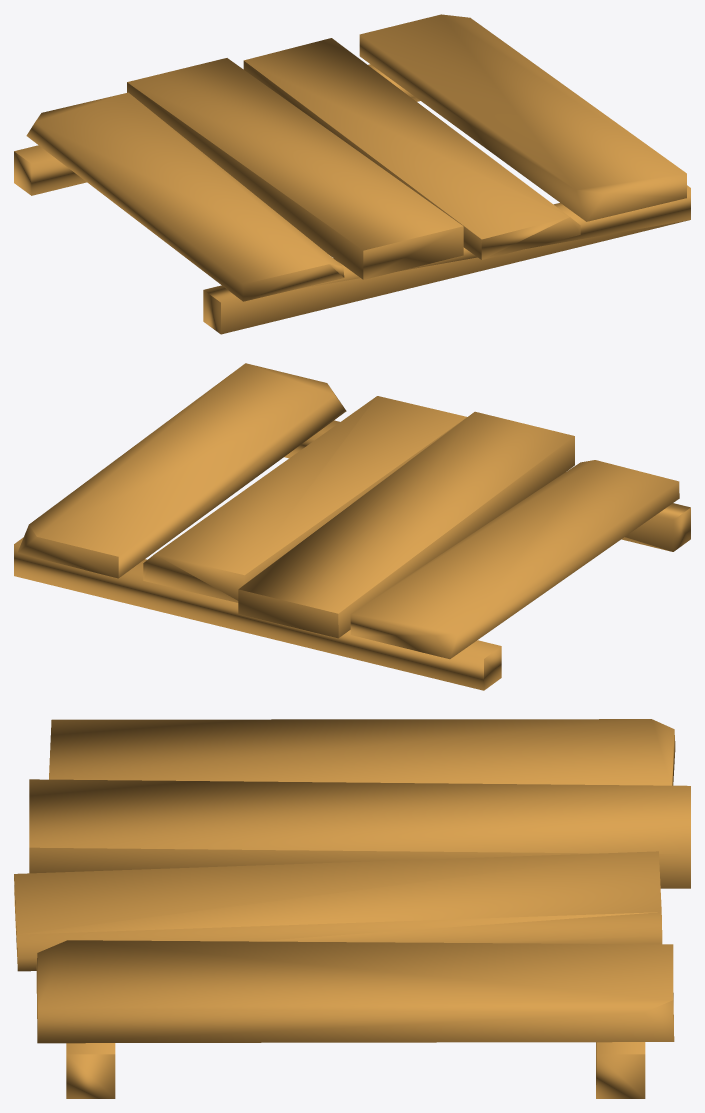
Rendered from Module_Wooden_Walkway_LOD02.fbx.
3 views of the same model, one above another, from view 1: azimuth 30°, elevation 25°; view 2: azimuth 150°, elevation 25°; view 3: azimuth 270°, elevation 25° (orthographic). The views are drawn at different scales.
Parts seen in each view (by area): view 1: Module_Wooden_Walkway_LOD02_Geometry; view 2: Module_Wooden_Walkway_LOD02_Geometry; view 3: Module_Wooden_Walkway_LOD02_Geometry.
Boxes of the visible parts, <box> form: Module_Wooden_Walkway_LOD02_Geometry: <box>14,14,690,334</box>; Module_Wooden_Walkway_LOD02_Geometry: <box>14,363,690,690</box>; Module_Wooden_Walkway_LOD02_Geometry: <box>14,719,690,1098</box>.
Size of the model in its own units: 2.35 by 0.296 by 2.09.
